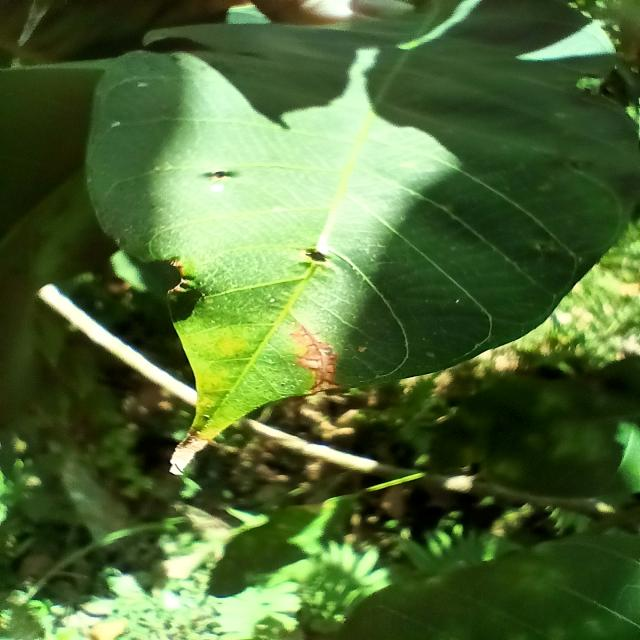Corynespora: (292, 324, 340, 394)
Leaf-Blight: (170, 434, 210, 476)
